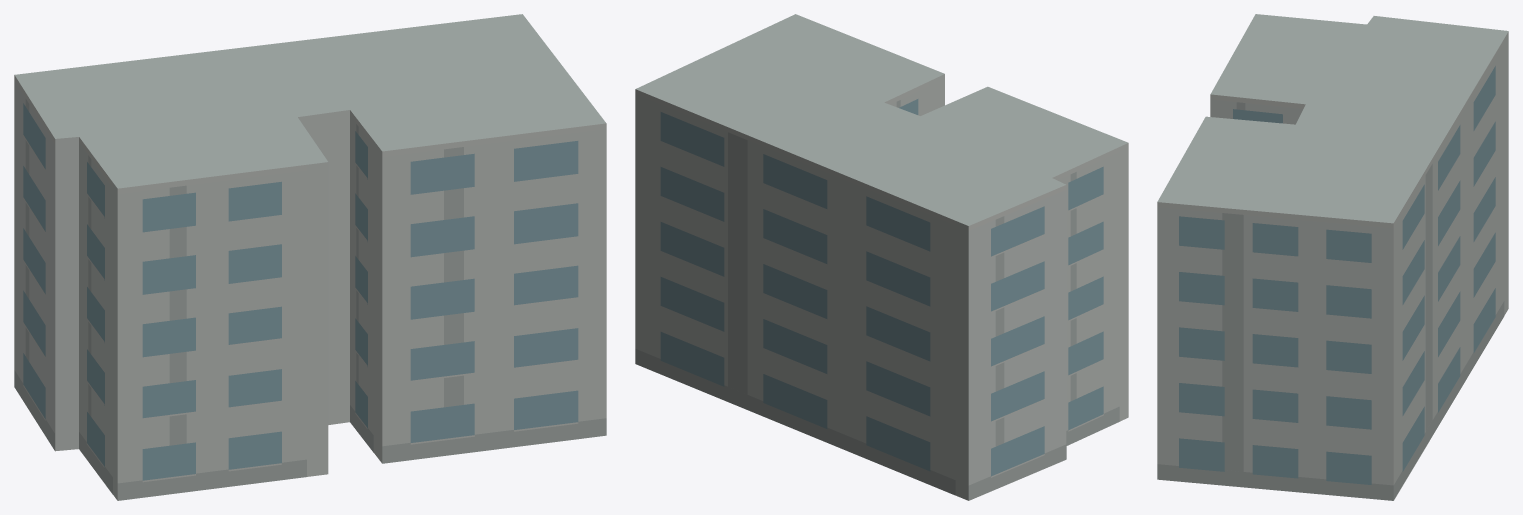
Rendered from survey-upis-32798630.glb.
3 views of the same model, side by side, from view 1: azimuth 30°, elevation 25°; view 2: azimuth 150°, elevation 25°; view 3: azimuth 270°, elevation 25° (orthographic). The views are drawn at different scales.
Visible parts, largest first — view 1: survey-upis-32798630.tmp; view 2: survey-upis-32798630.tmp; view 3: survey-upis-32798630.tmp.
Boxes of the visible parts, left/top/right/bottom form: survey-upis-32798630.tmp: left=14, top=14, right=606, bottom=500; survey-upis-32798630.tmp: left=635, top=14, right=1128, bottom=500; survey-upis-32798630.tmp: left=1157, top=14, right=1508, bottom=500.
Bounding box in the file's own units: 21.69 × 13.4 × 15.39.
